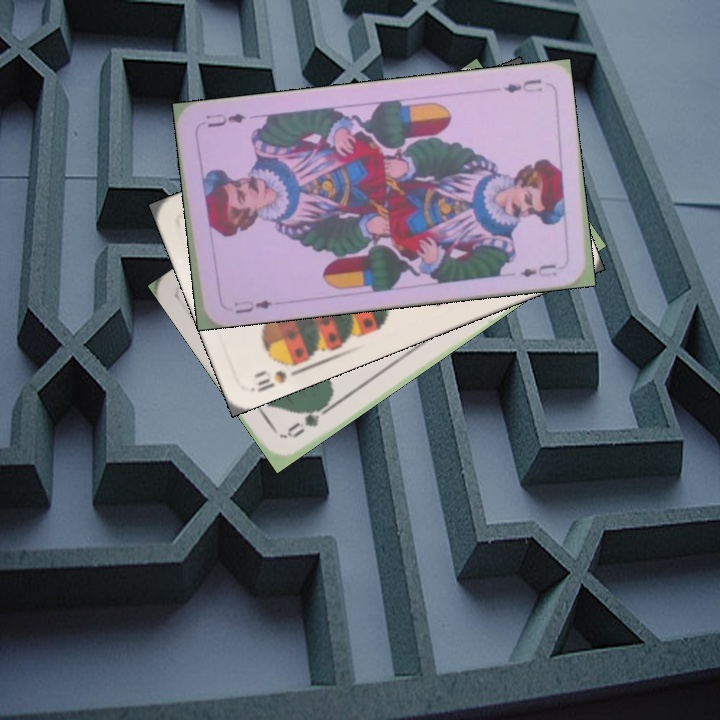EU: (499, 75, 545, 96), (230, 296, 274, 317)
GO: (281, 397, 334, 441)
S10: (248, 355, 305, 395)
